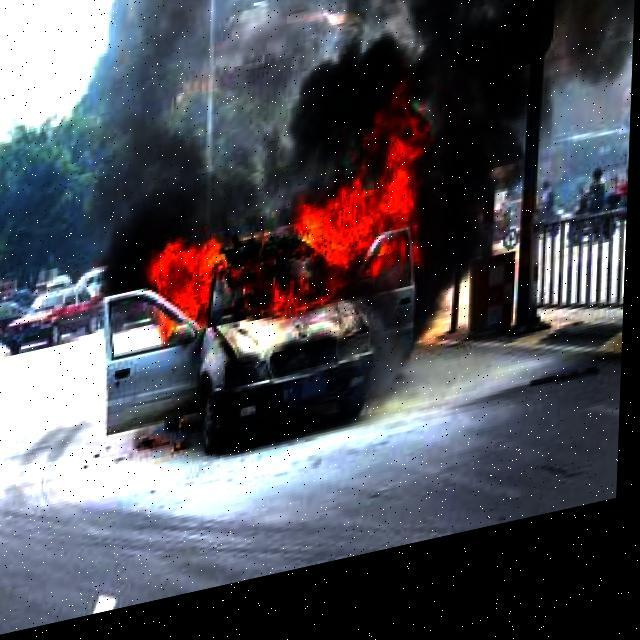Fire: (138, 87, 443, 371)
